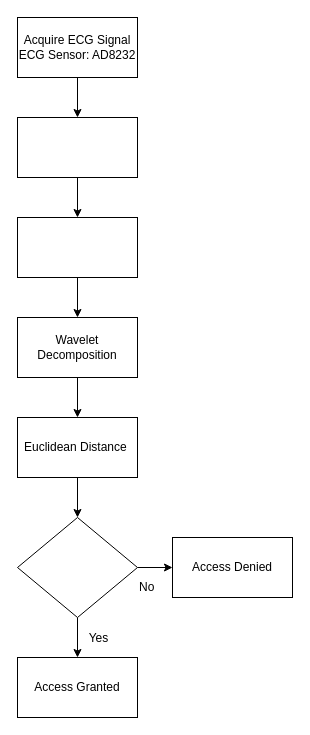
The diagram is 310 pixels wide and 735 high, and some of its shapes have lost their labels. The box of each missing label's shape, as (x1, y1, x2, y2) in pixels:
Minimum value within threshold: (16, 516, 138, 618)
Noise Removal Bandpass Filters: (16, 116, 138, 178)
Pan Tompkin's Algorithm (QRS Detection): (16, 216, 138, 278)
